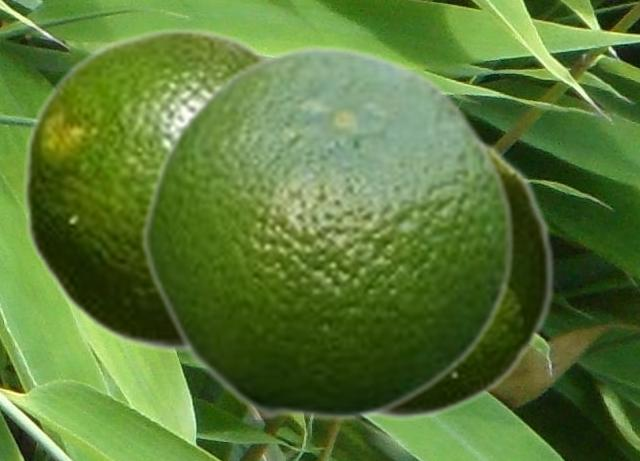calamansi: (139, 41, 515, 421), (20, 26, 274, 351), (371, 133, 555, 419)
